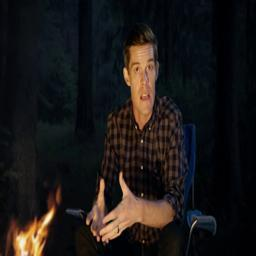fire: (11, 187, 61, 256)
